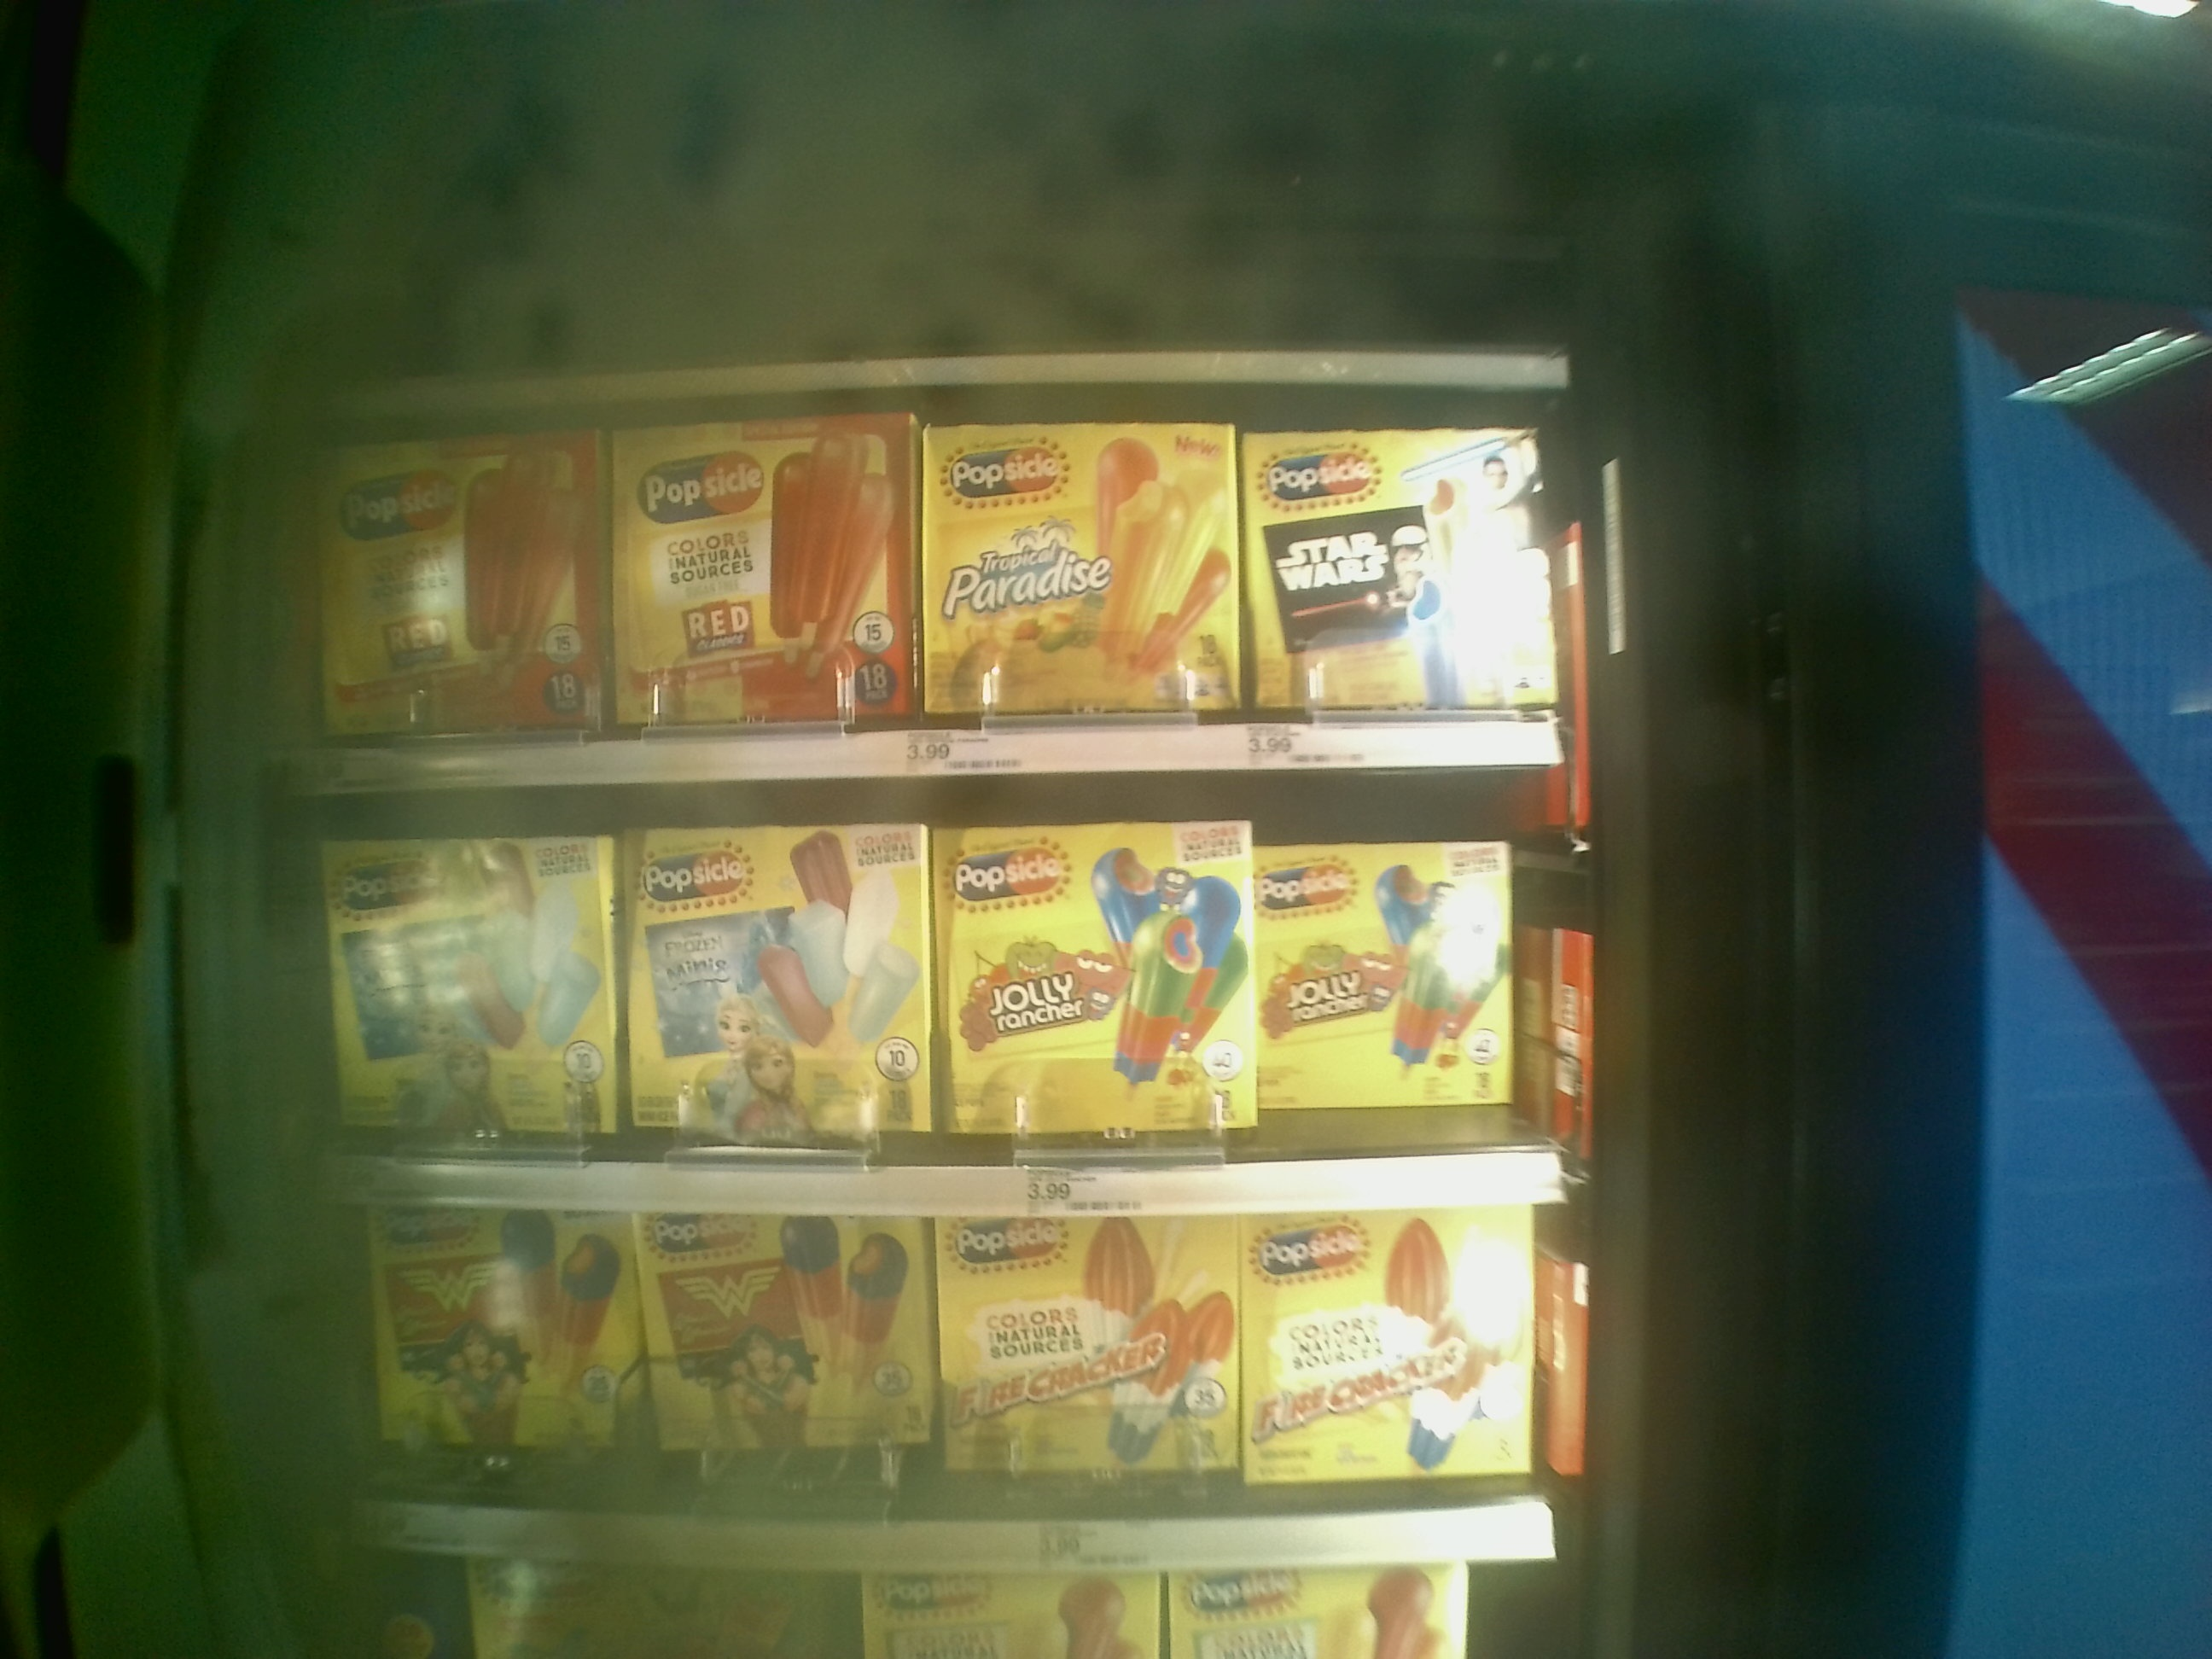shelf: (329, 767, 1583, 1188), (308, 369, 1581, 769), (315, 1195, 1578, 1560)
